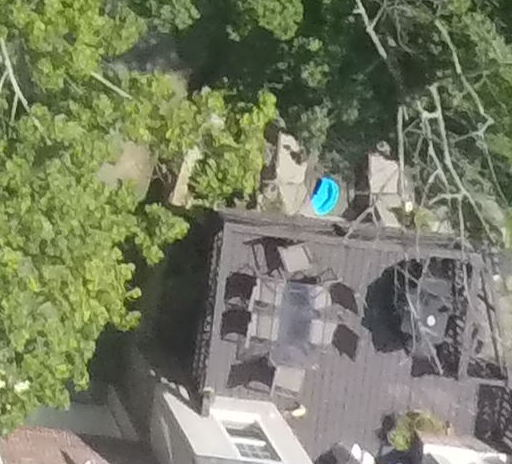flower bed: (387, 403, 445, 452)
porch: (197, 189, 512, 460)
toy: (302, 178, 347, 218)
